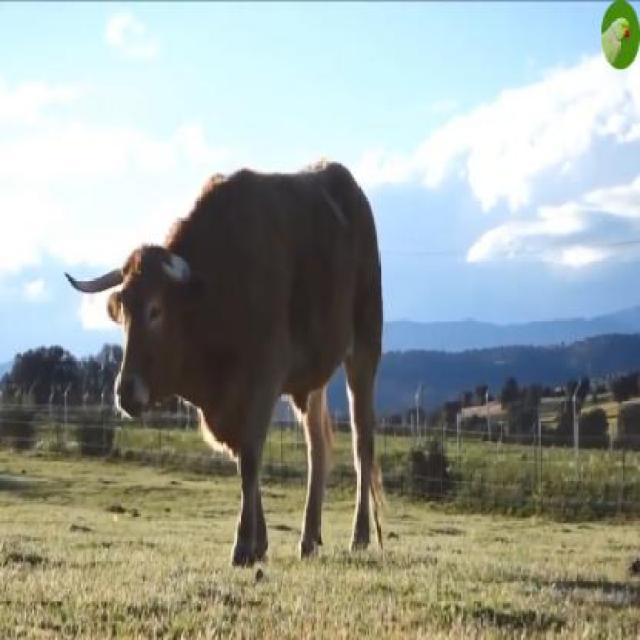Cow: (64, 157, 384, 566)
